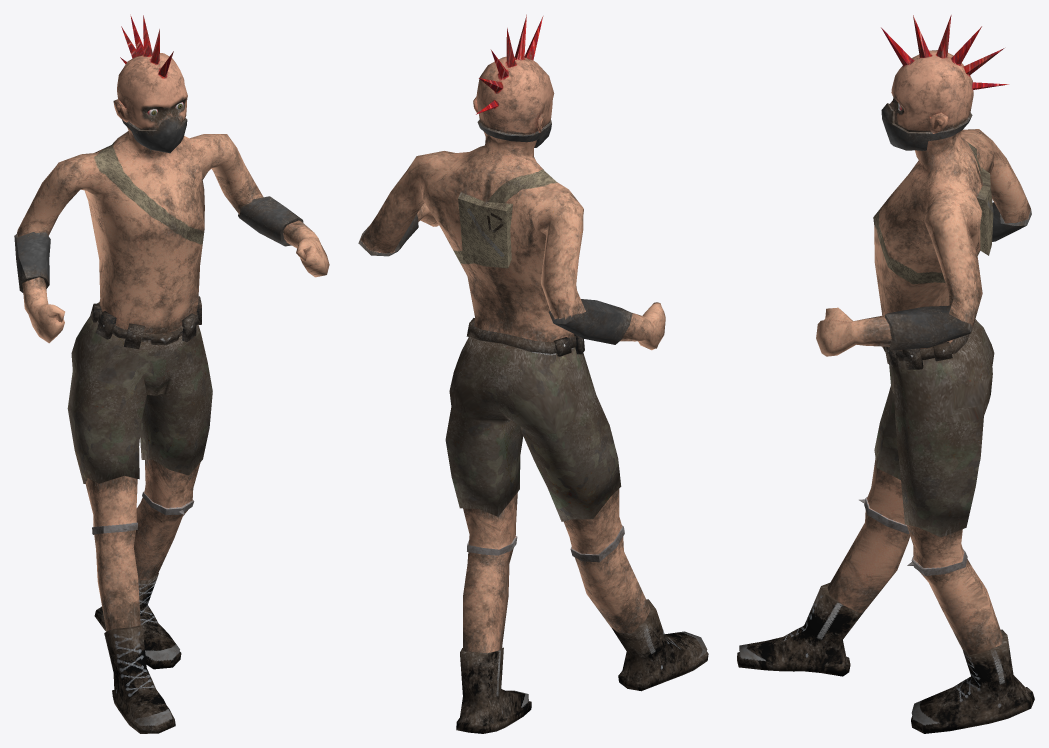
Rendered from Anim_ataque_d3_npc2.0039.obj.
3 views of the same model, side by side, from view 1: azimuth 30°, elevation 25°; view 2: azimuth 150°, elevation 25°; view 3: azimuth 270°, elevation 25° (orthographic). The views are drawn at different scales.
Visible parts, largest first — view 1: polySurface1; view 2: polySurface1; view 3: polySurface1.
Boxes of the visible parts, x1,y1,x2,y2 form: polySurface1: (14, 14, 329, 733); polySurface1: (358, 14, 708, 733); polySurface1: (737, 15, 1034, 733).
Bounding box in the file's own units: 4.31 × 10.15 × 3.87.
